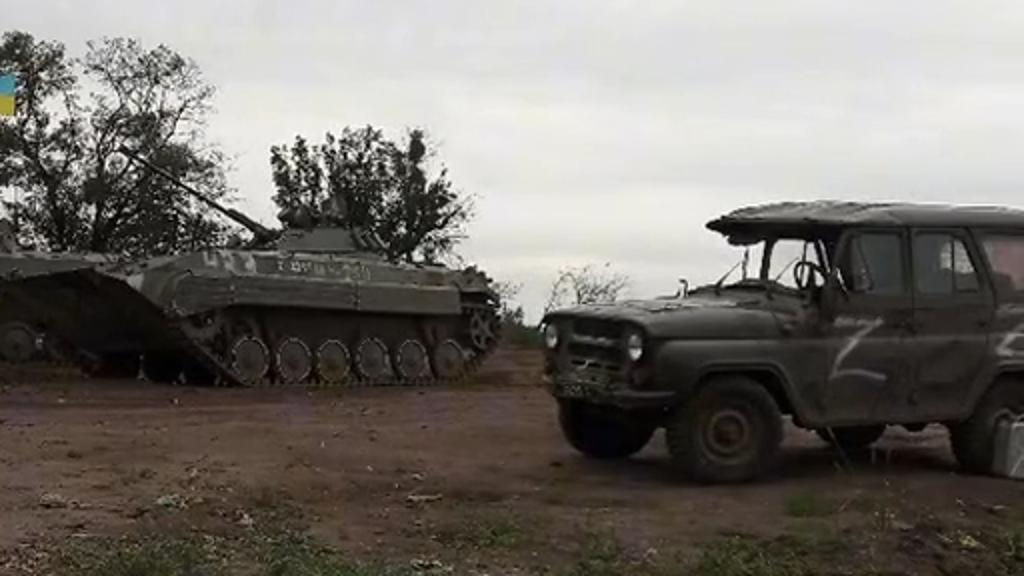APC-IFV: (0, 144, 502, 392)
CAR: (532, 180, 1020, 482)
